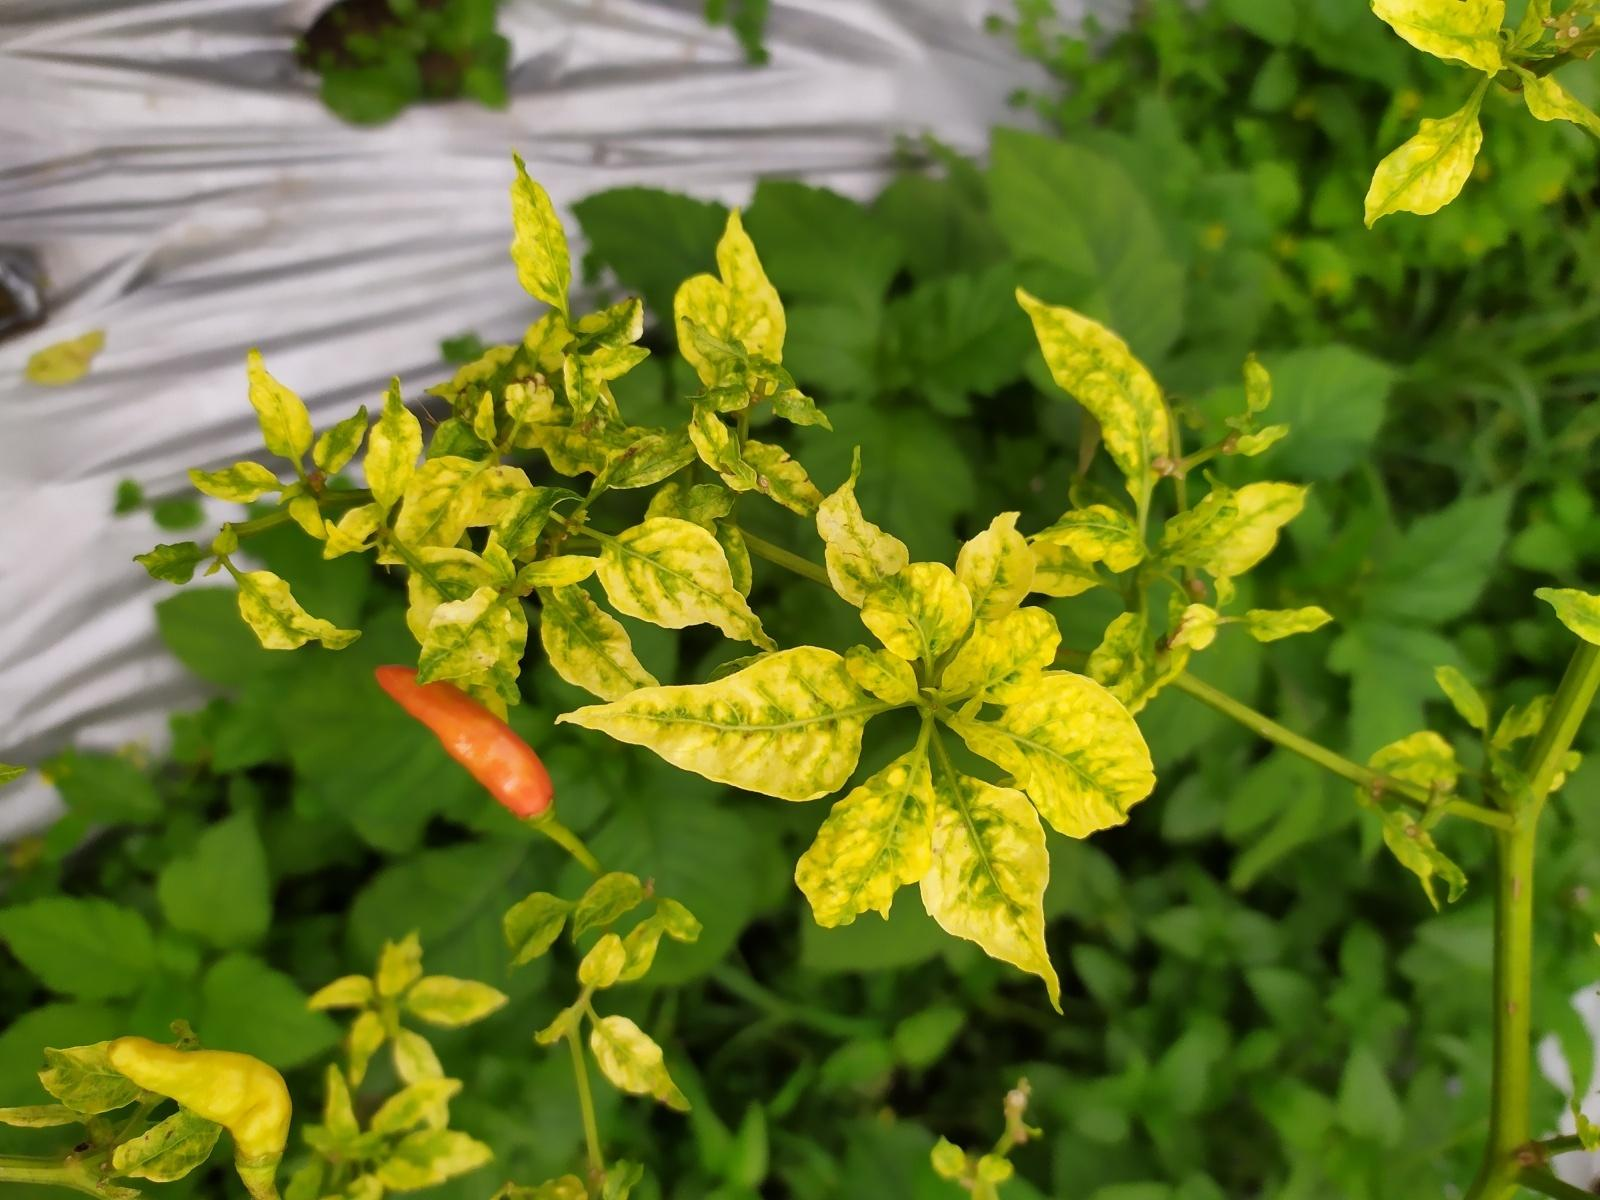cabai_normal: (375, 664, 553, 818), (110, 1035, 294, 1161)
